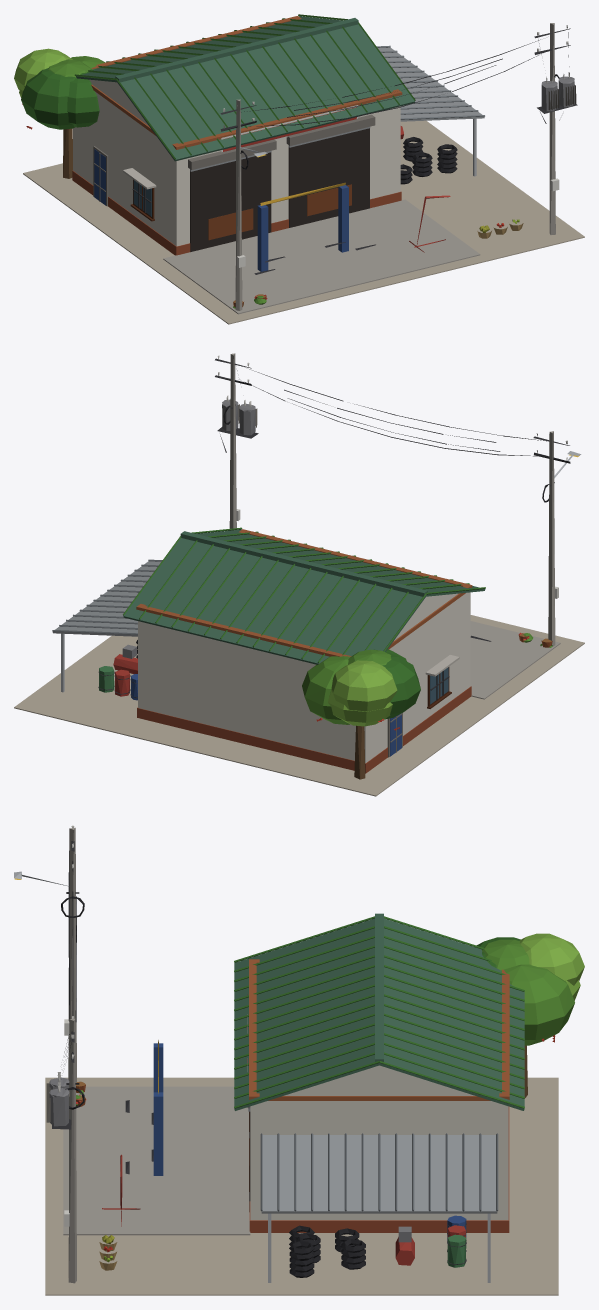
Rendered from factory_1.glb.
The picture shows the model from 3 angles, top to bottom: view 1: azimuth 30°, elevation 25°; view 2: azimuth 150°, elevation 25°; view 3: azimuth 270°, elevation 25°; orthographic projection. The views are drawn at different scales.
Visible parts, largest first — view 1: body, windows; view 2: body; view 3: body.
Boxes of the visible parts, <box> form: body: <box>14,14,584,324</box>; windows: <box>133,128,369,251</box>; body: <box>14,353,584,796</box>; body: <box>14,825,584,1295</box>.
Size of the model in its own units: 16.64 by 9.3 by 17.7.
